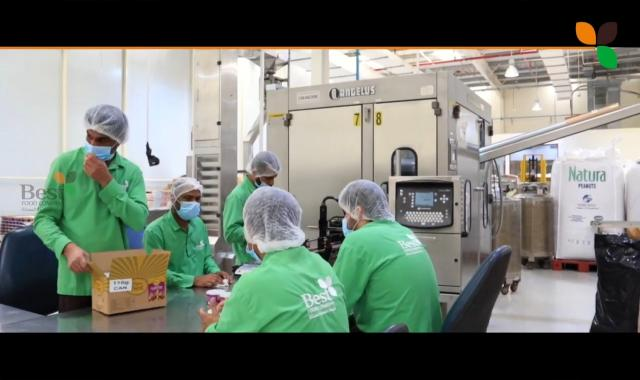hairnet: (245, 189, 303, 254), (338, 180, 393, 221), (83, 105, 129, 146), (169, 177, 207, 203), (246, 153, 281, 180)
